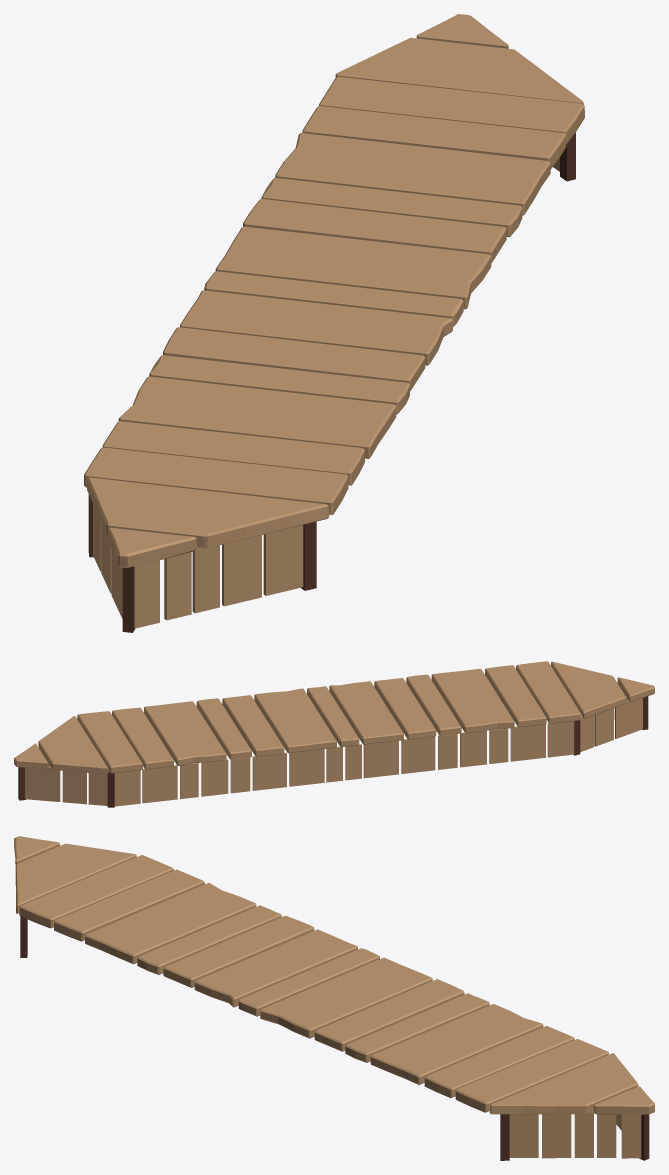
File: Small Foundation C.fbx
The picture shows the model from 3 angles, top to bottom: view 1: azimuth 30°, elevation 25°; view 2: azimuth 150°, elevation 25°; view 3: azimuth 270°, elevation 25°; orthographic projection. The views are drawn at different scales.
Parts seen in each view (by area): view 1: Small Foundation C; view 2: Small Foundation C; view 3: Small Foundation C.
Boxes of the visible parts, left/top/right/bottom form: Small Foundation C: left=84, top=14, right=584, bottom=632; Small Foundation C: left=14, top=661, right=654, bottom=807; Small Foundation C: left=14, top=836, right=654, bottom=1160.
Size of the model in its own units: 440 by 43.25 by 441.
